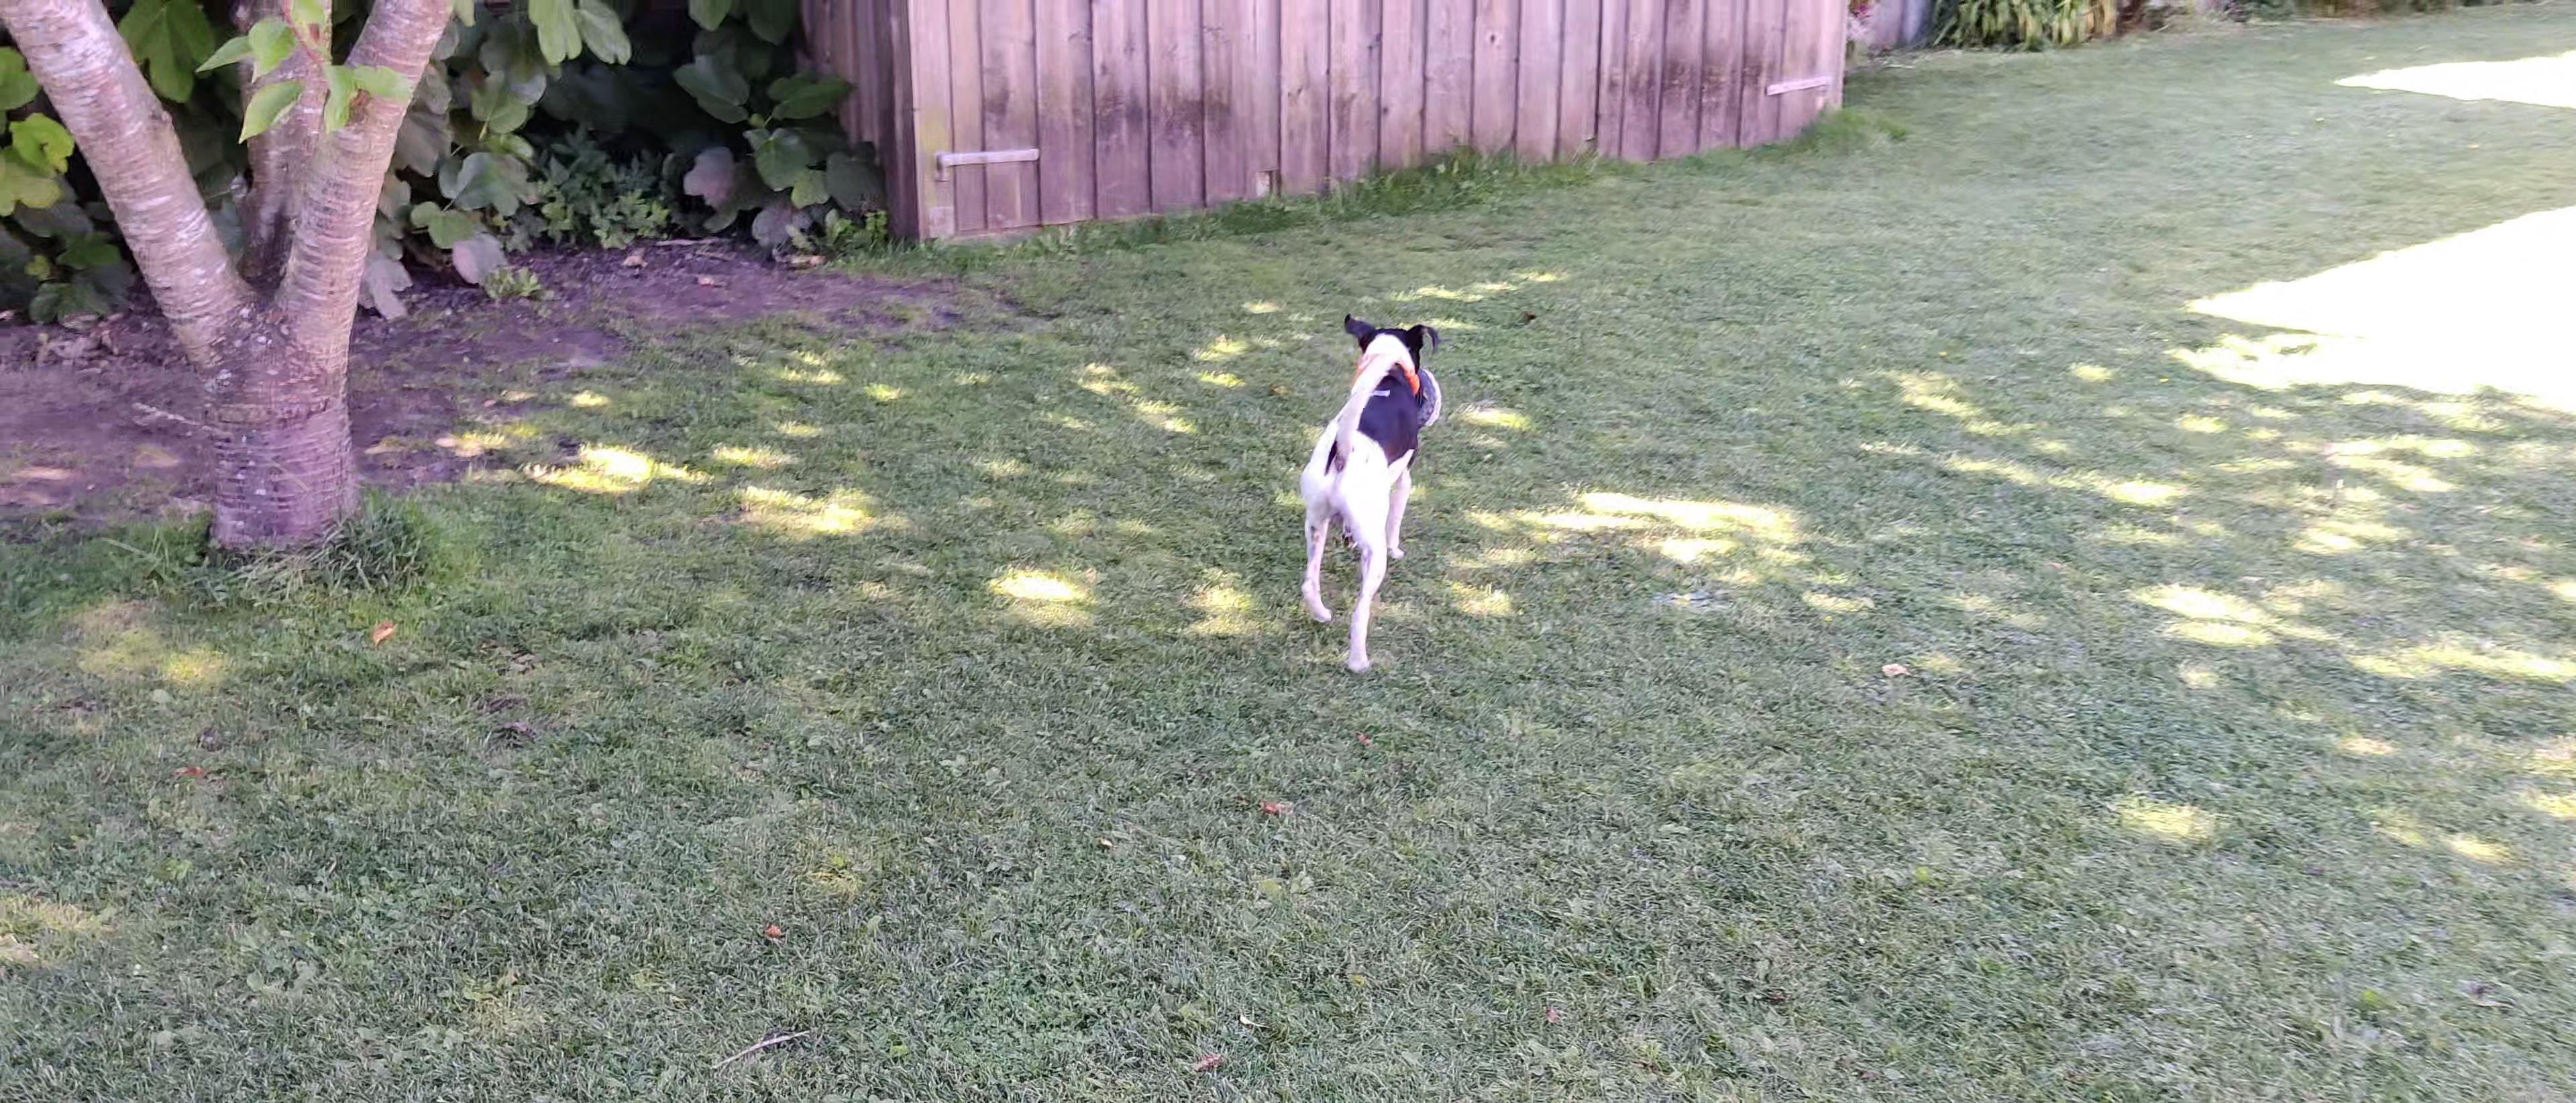Dog: (1295, 311, 1451, 682)
